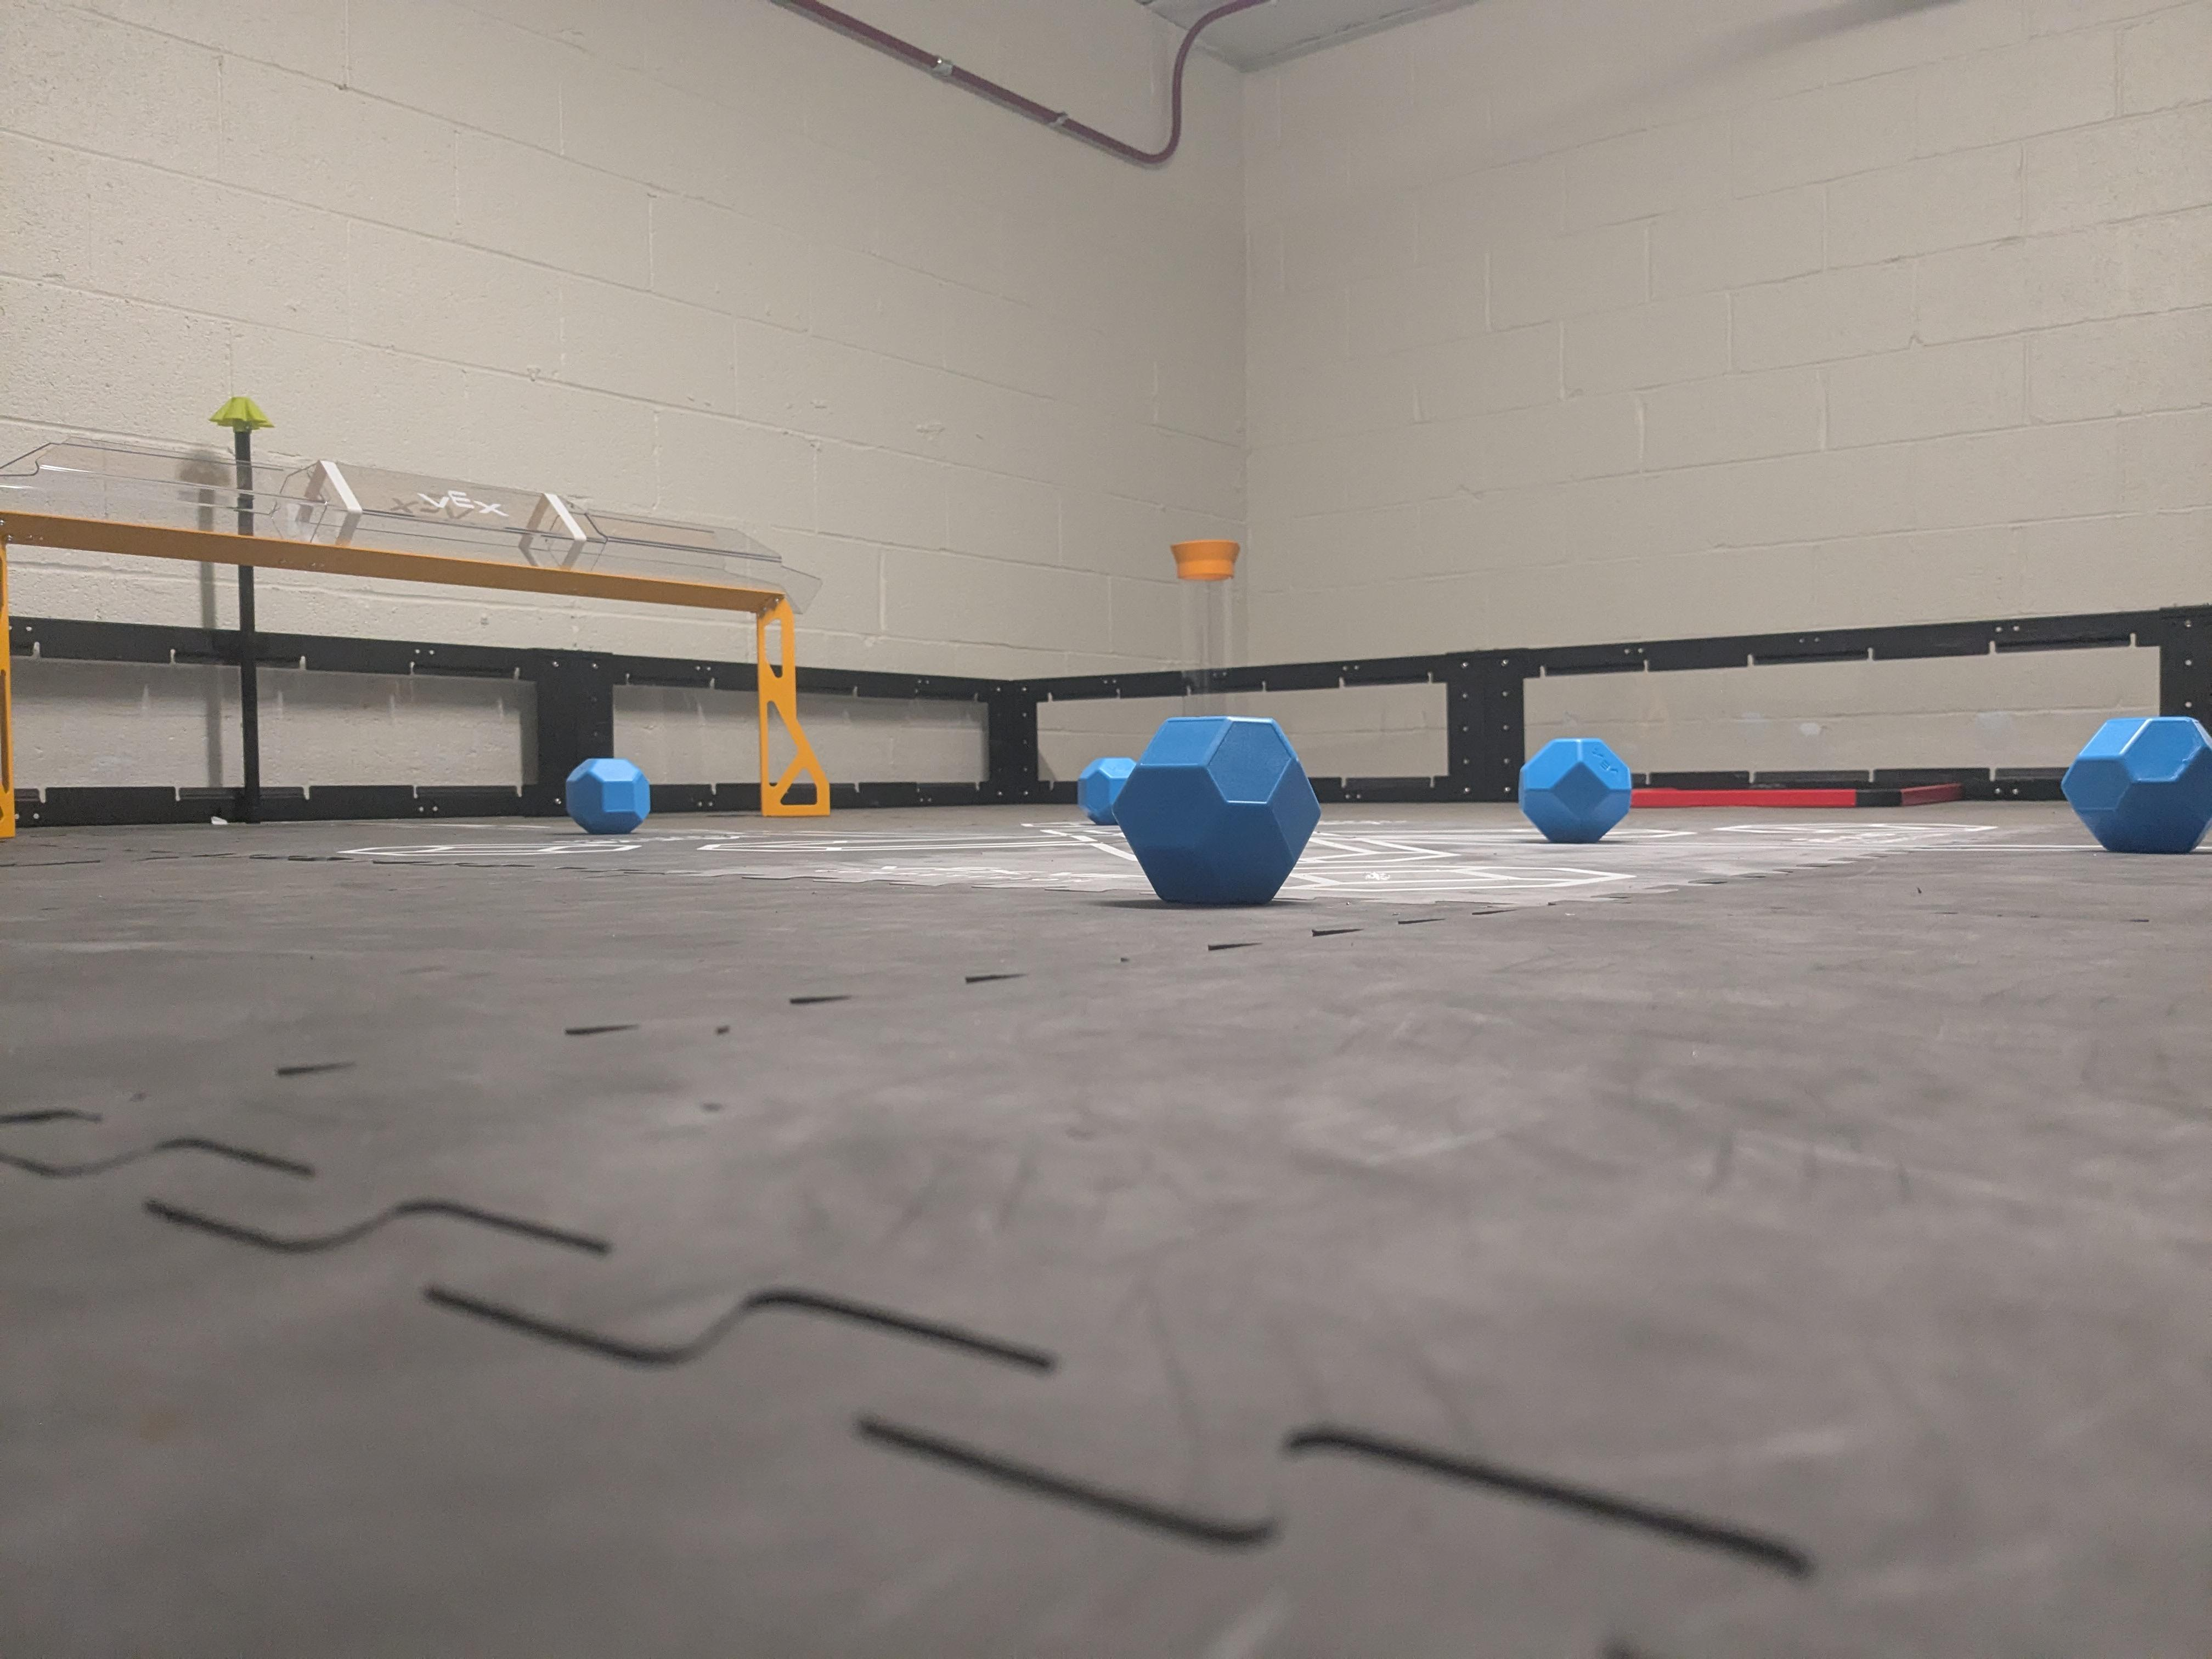Vex-Pieces-BLUE: (1078, 718, 1317, 901), (2064, 718, 2207, 847), (1521, 739, 1630, 836), (566, 758, 650, 831)
